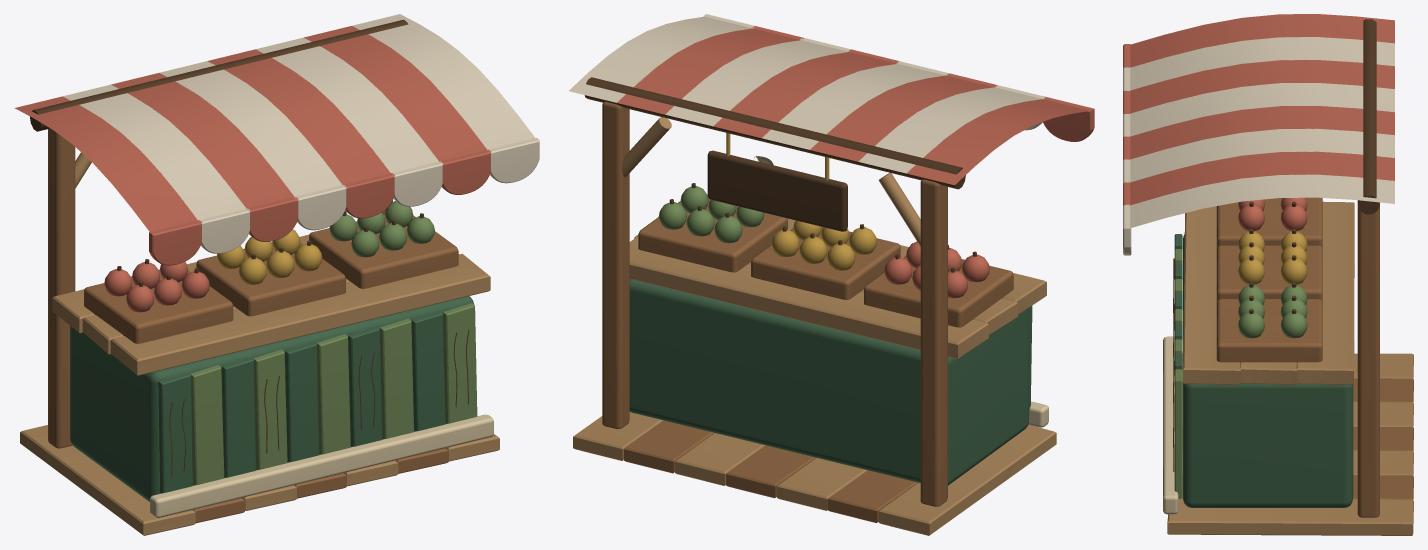
File: puesto_mercado.glb
The picture shows the model from 3 angles, left to right: view 1: azimuth 30°, elevation 25°; view 2: azimuth 150°, elevation 25°; view 3: azimuth 270°, elevation 25°; orthographic projection. The views are drawn at different scales.
Visible parts, largest first — view 1: puesto_mercado; view 2: puesto_mercado; view 3: puesto_mercado.
Part boxes in pixels (box(x1,y1,x2,y2)): puesto_mercado: box(14, 14, 539, 535); puesto_mercado: box(569, 14, 1094, 535); puesto_mercado: box(1123, 14, 1413, 535).
Bounding box in the file's own units: 2.51 × 2.19 × 1.67.
